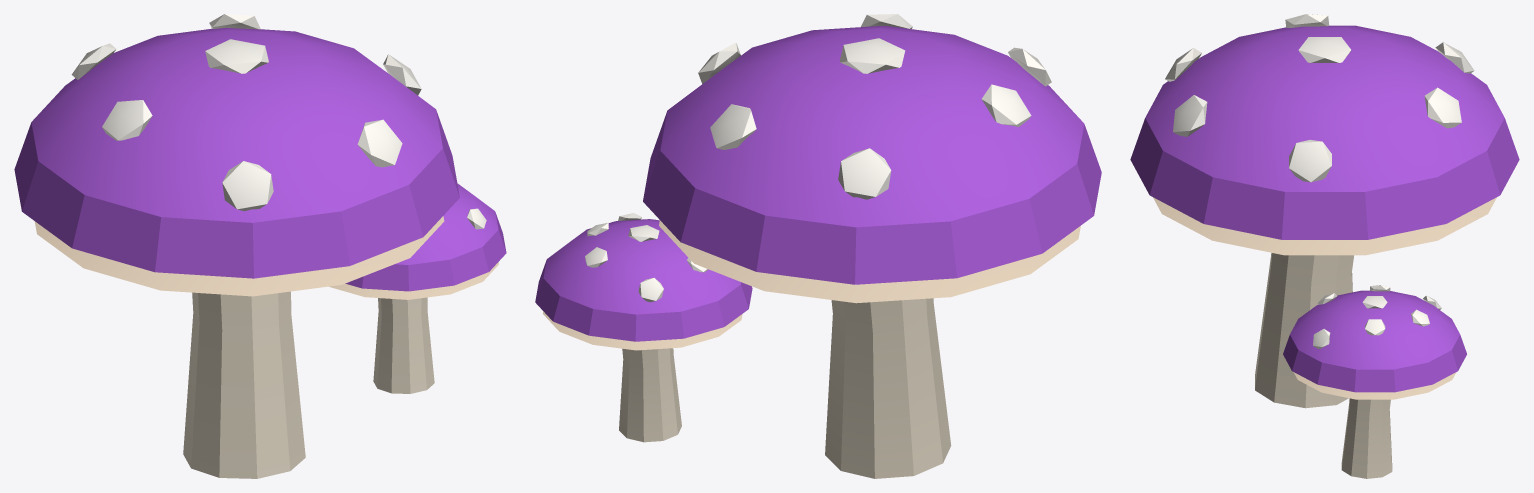
The model's file is MushroomPair.fbx.
The picture shows the model from 3 angles, left to right: view 1: azimuth 30°, elevation 25°; view 2: azimuth 150°, elevation 25°; view 3: azimuth 270°, elevation 25°; orthographic projection. The views are drawn at different scales.
Parts seen in each view (by area): view 1: MushroomPair_Body, MushroomPair_Stem, MushroomPair_Dots, MushroomPair_Gills; view 2: MushroomPair_Body, MushroomPair_Stem, MushroomPair_Dots, MushroomPair_Gills; view 3: MushroomPair_Body, MushroomPair_Stem, MushroomPair_Dots, MushroomPair_Gills.
Boxes of the visible parts, x1,y1,x2,y2 form: MushroomPair_Body: (14, 27, 506, 291); MushroomPair_Stem: (183, 291, 434, 478); MushroomPair_Dots: (71, 14, 486, 229); MushroomPair_Gills: (34, 216, 498, 299); MushroomPair_Body: (535, 25, 1101, 341); MushroomPair_Stem: (619, 298, 951, 478); MushroomPair_Dots: (585, 14, 1051, 302); MushroomPair_Gills: (543, 220, 1080, 350); MushroomPair_Body: (1130, 25, 1519, 392); MushroomPair_Stem: (1255, 253, 1392, 478); MushroomPair_Dots: (1165, 14, 1474, 348); MushroomPair_Gills: (1153, 197, 1496, 399).
Size of the model in its own units: 461 by 374 by 380.
